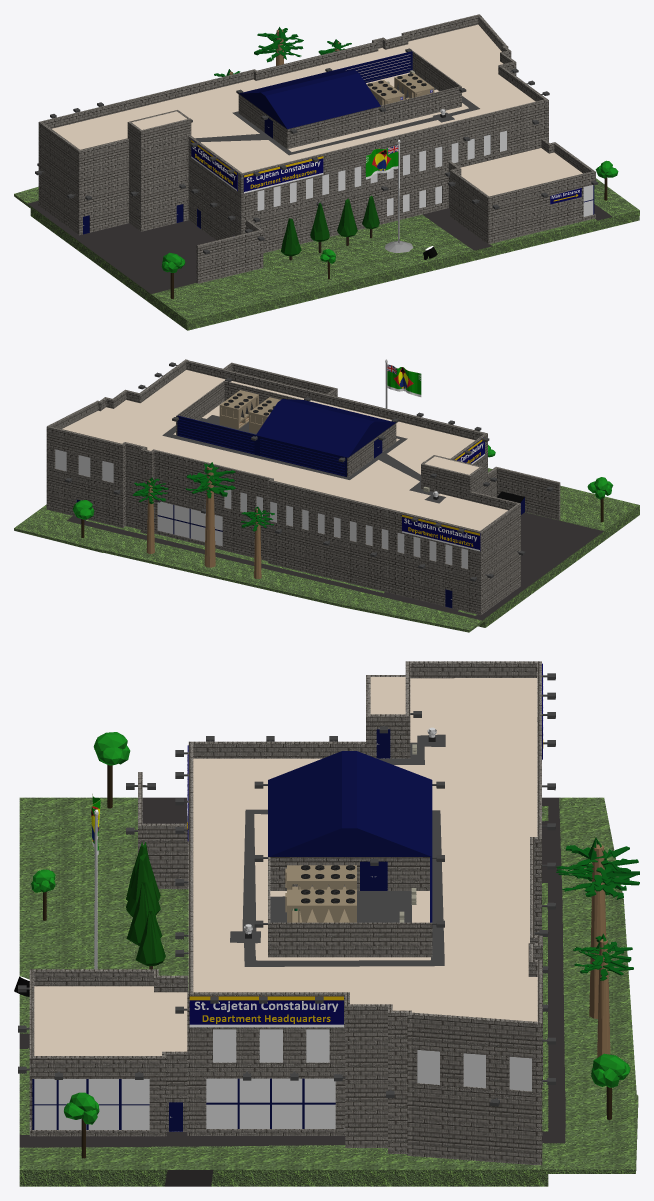
The model's file is Police.glb.
The picture shows the model from 3 angles, top to bottom: view 1: azimuth 30°, elevation 25°; view 2: azimuth 150°, elevation 25°; view 3: azimuth 270°, elevation 25°; orthographic projection. The views are drawn at different scales.
Visible parts, largest first — view 1: 1st Flr, Ground, Roofs, Screenwalls, Ptenhouse Roof, Leaves, Windows, Sign, ACC, Lights Ext, Flag, Trunk (+2 smaller); view 2: 1st Flr, Roofs, Ground Ext, Ground, Screenwalls, Ptenhouse Roof, Windows, Leaves, Trunk, Sign, ACC, Lights Ext (+1 smaller); view 3: Roofs, 1st Flr, Ground, Ground Ext, Windows, Ptenhouse Roof, Leaves, Screenwalls, Sign, ACC, Lights Ext, Trunk (+1 smaller).
Part boxes in pixels (left/top/right/bottom): 1st Flr: left=38, top=14, right=595, bottom=283; Ground: left=30, top=178, right=639, bottom=330; Roofs: left=52, top=24, right=582, bottom=196; Screenwalls: left=238, top=51, right=461, bottom=149; Ptenhouse Roof: left=239, top=70, right=380, bottom=128; Leaves: left=161, top=27, right=618, bottom=272; Windows: left=257, top=130, right=594, bottom=216; Sign: left=191, top=139, right=323, bottom=193; ACC: left=366, top=72, right=434, bottom=105; Lights Ext: left=35, top=48, right=597, bottom=254; Flag: left=365, top=145, right=398, bottom=179; Trunk: left=170, top=29, right=607, bottom=298; 1st Flr: left=46, top=359, right=560, bottom=615; Roofs: left=62, top=370, right=507, bottom=530; Ground Ext: left=14, top=509, right=485, bottom=632; Ground: left=40, top=468, right=639, bottom=627; Screenwalls: left=176, top=380, right=396, bottom=477; Ptenhouse Roof: left=256, top=399, right=395, bottom=457; Windows: left=55, top=449, right=467, bottom=568; Leaves: left=72, top=445, right=613, bottom=531; Trunk: left=81, top=466, right=603, bottom=578; Sign: left=402, top=437, right=484, bottom=551; ACC: left=219, top=390, right=280, bottom=433; Lights Ext: left=65, top=362, right=553, bottom=581; Roofs: left=34, top=677, right=537, bottom=1055; 1st Flr: left=29, top=661, right=542, bottom=1165; Ground: left=19, top=797, right=548, bottom=1186; Ground Ext: left=548, top=797, right=638, bottom=1173; Windows: left=32, top=1029, right=531, bottom=1129; Ptenhouse Roof: left=268, top=751, right=432, bottom=856; Leaves: left=31, top=732, right=639, bottom=1124; Screenwalls: left=268, top=857, right=432, bottom=957; Sign: left=187, top=663, right=543, bottom=1027; ACC: left=285, top=865, right=356, bottom=922; Lights Ext: left=18, top=673, right=555, bottom=1106; Trunk: left=43, top=765, right=611, bottom=1158.
Bounding box in the file's own units: 57.72 × 16.23 × 40.93.
37 materials, 3 textured.
